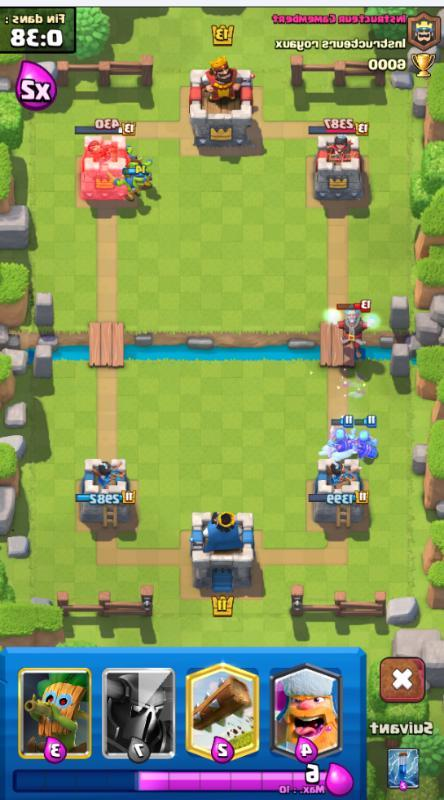enemy_ice_wizard: (320, 299, 384, 362)
player_goblins: (111, 169, 144, 208), (129, 157, 159, 190)
player_spear_goblins: (324, 416, 356, 459), (354, 416, 383, 461)
